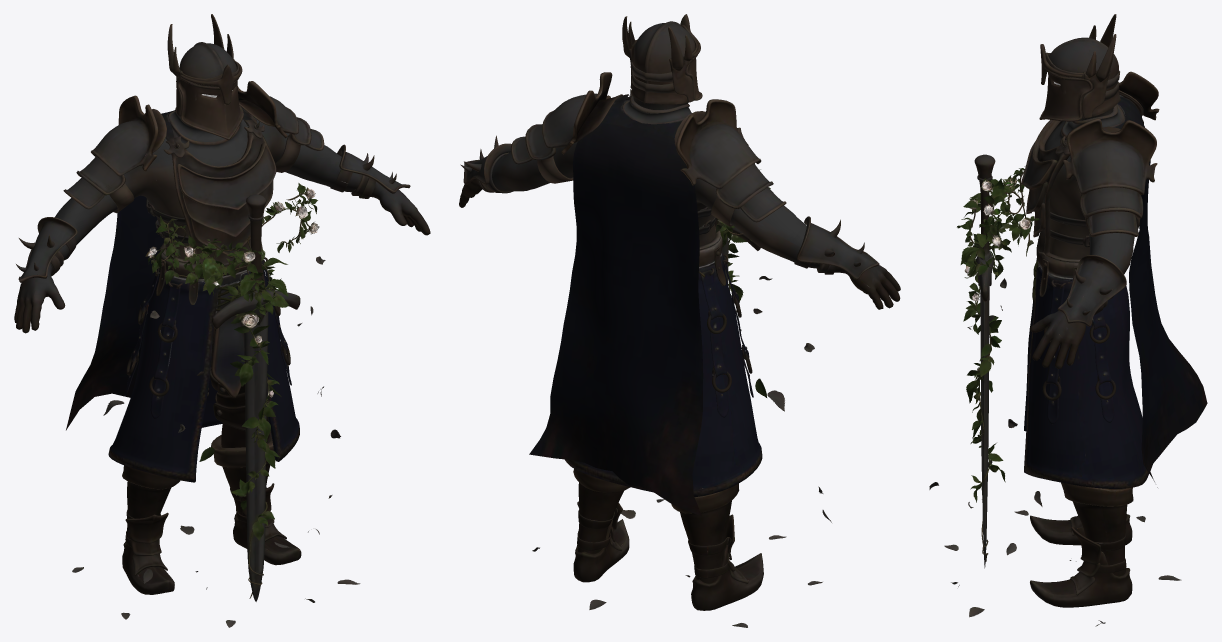
Rendered from knight_textured.glb.
The picture shows the model from 3 angles, left to right: view 1: azimuth 30°, elevation 25°; view 2: azimuth 150°, elevation 25°; view 3: azimuth 270°, elevation 25°; orthographic projection. The views are drawn at different scales.
Visible parts, largest first — view 1: world; view 2: world; view 3: world.
Part boxes in pixels (bbox=[...]): world: bbox=[14, 14, 430, 627]; world: bbox=[459, 14, 900, 627]; world: bbox=[929, 14, 1207, 626].
Bounding box in the file's own units: 0.7926 × 1 × 0.4619.
1 material, 1 textured.
